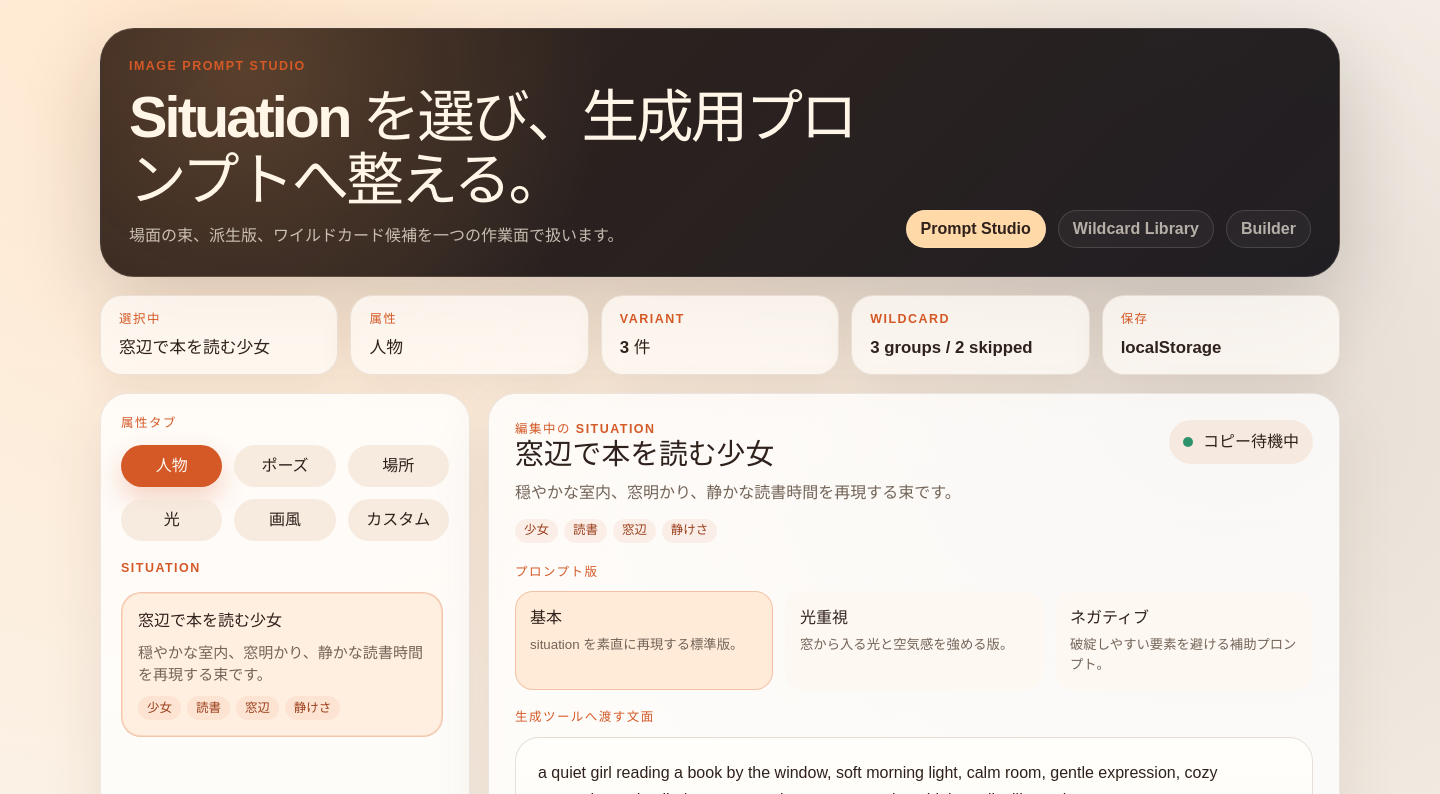
it: App › separates negative prompt from the main prompt
Click the button "ネガティブ 破綻しやすい要素を避ける補助プロンプト。": (1184, 641) x1=1055 y1=591 x2=1313 y2=690
(page scrolled)
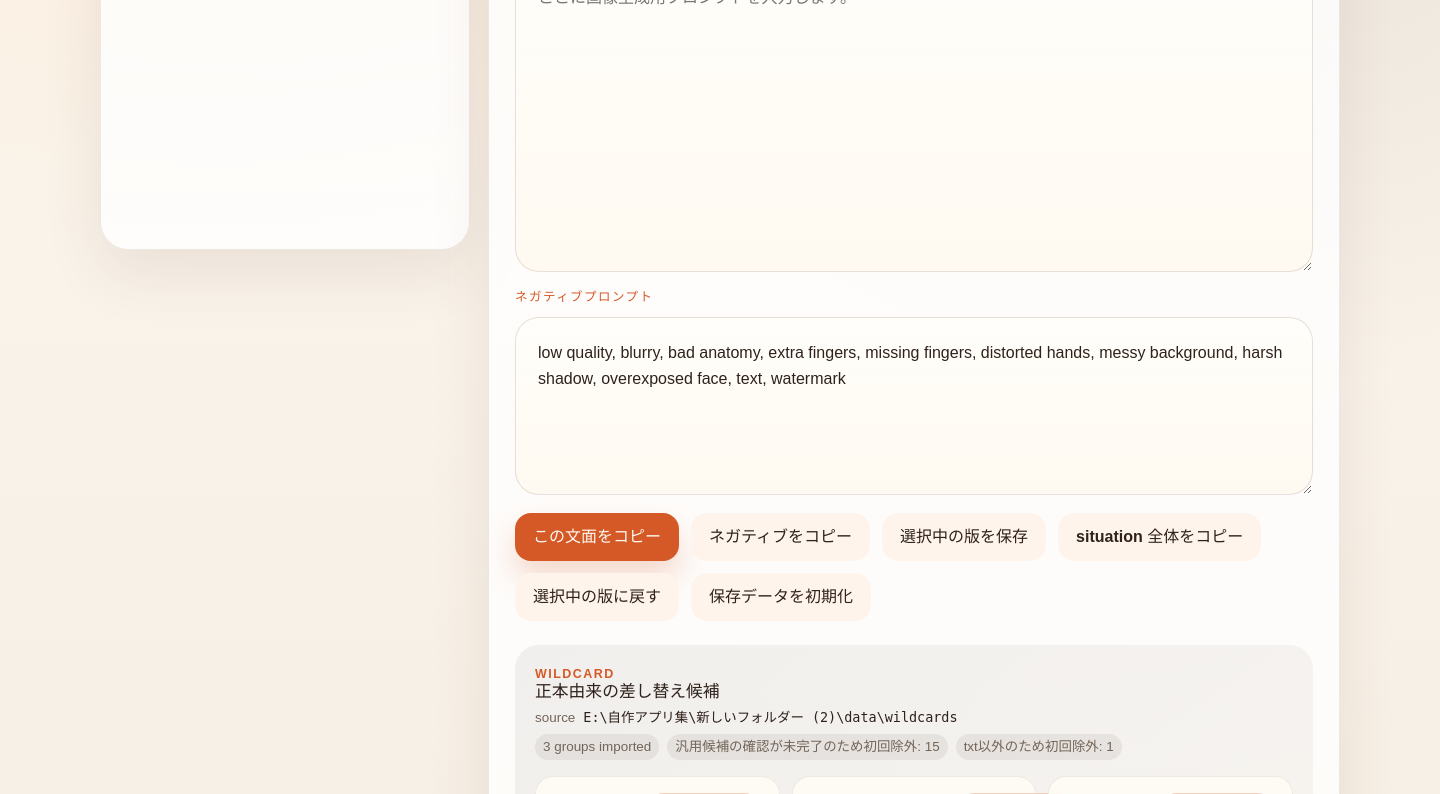
Now the text box labelled "ネガティブプロンプト" holds "low quality, blurry, bad anatomy, extra fingers, missing fingers, distorted hands, messy background, harsh shadow, overexposed face, text, watermark", box x1=515 y1=317 x2=1313 y2=495
